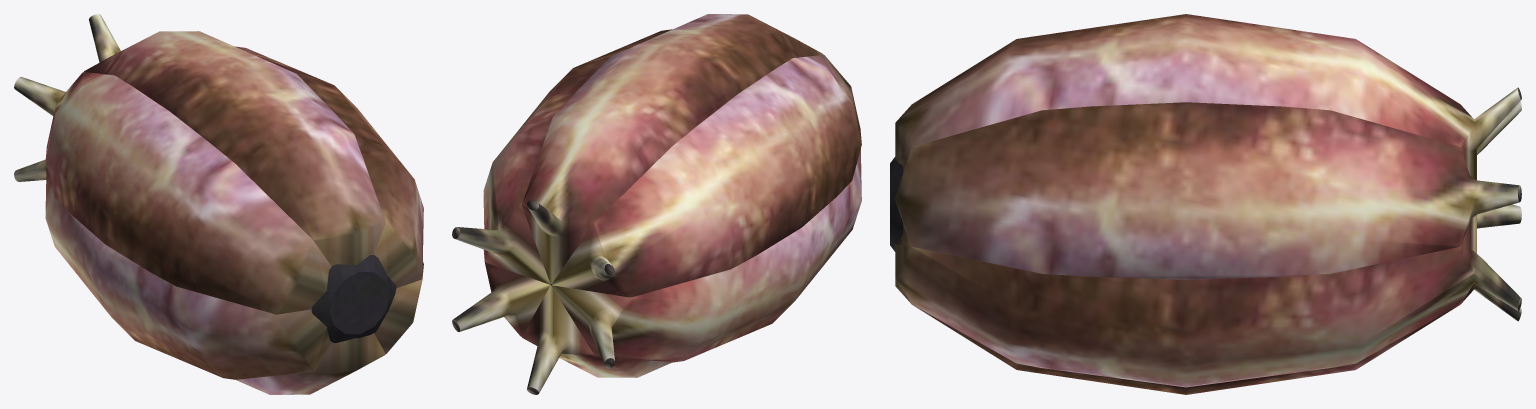
The model's file is Nigella.fbx.
3 views of the same model, side by side, from view 1: azimuth 30°, elevation 25°; view 2: azimuth 150°, elevation 25°; view 3: azimuth 270°, elevation 25° (orthographic). The views are drawn at different scales.
Visible parts, largest first — view 1: OuterShell; view 2: OuterShell; view 3: OuterShell.
Part boxes in pixels (x1,y1,x2,y2): OuterShell: [14, 14, 423, 394]; OuterShell: [452, 14, 861, 394]; OuterShell: [890, 14, 1521, 394].
Size of the model in its own units: 23.98 by 25.15 by 40.56.
